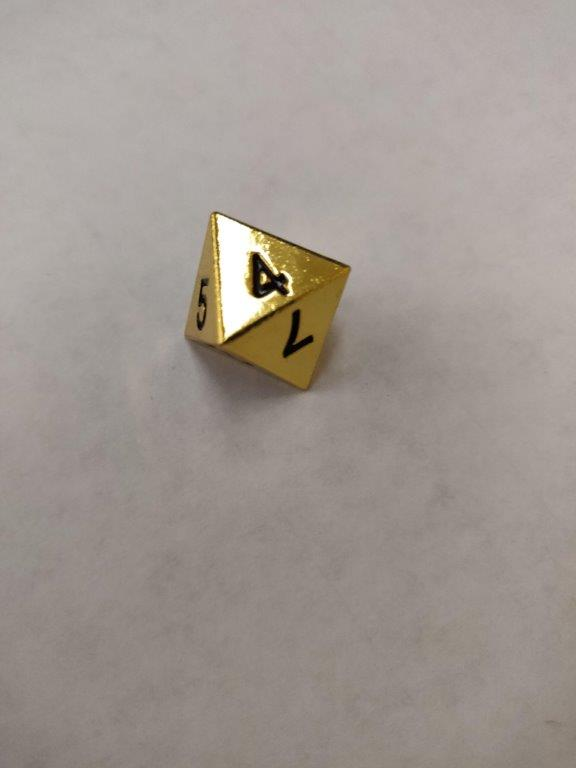d8-4: (177, 209, 349, 391)
